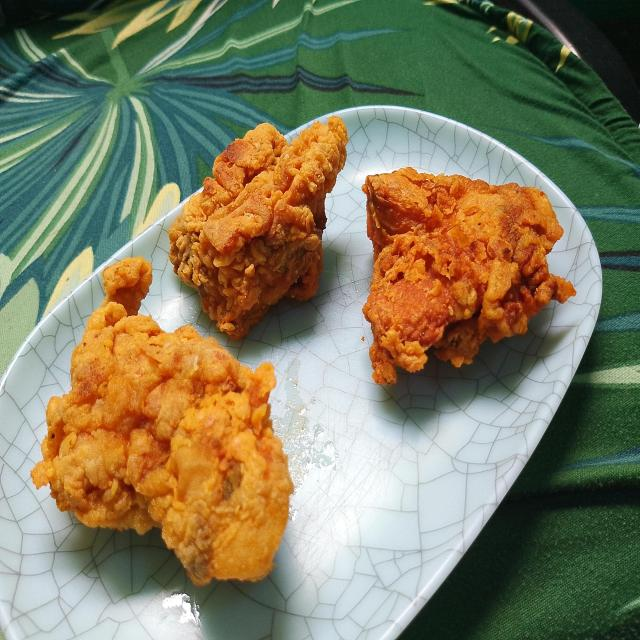Chicken -Fried Chicken-: (18, 275, 322, 588), (348, 150, 575, 350), (166, 100, 329, 329)
